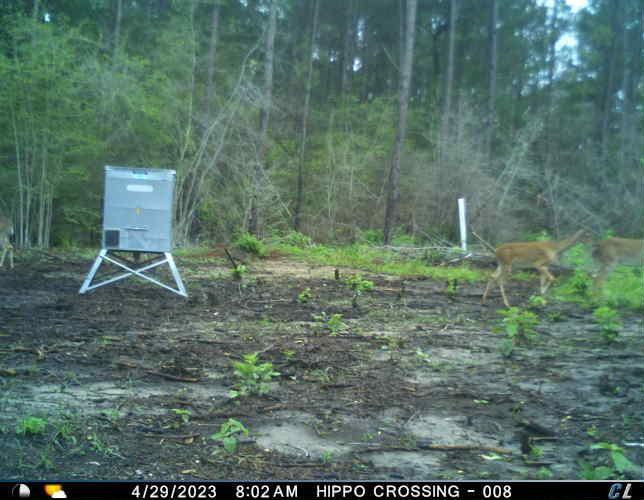Deer: (482, 224, 595, 314), (590, 236, 644, 304), (0, 211, 18, 276)
